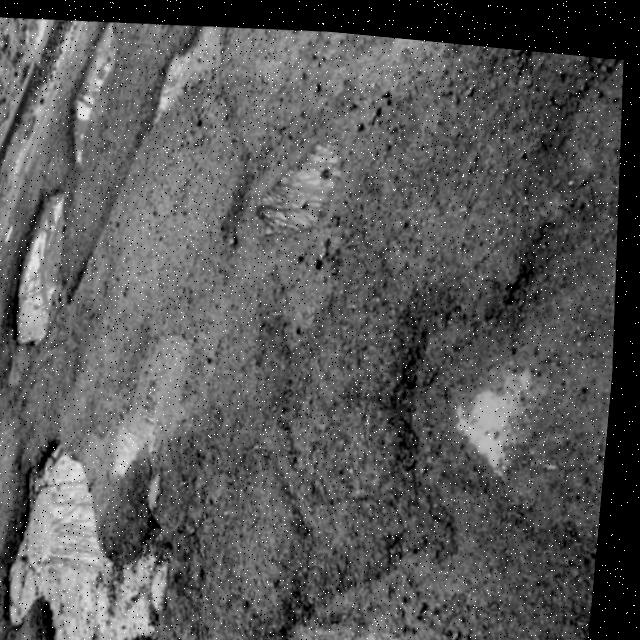Pothole: (0, 378, 226, 640), (383, 261, 590, 525), (225, 45, 393, 282), (0, 104, 133, 379), (274, 520, 465, 640), (53, 12, 177, 184), (126, 13, 259, 108), (0, 537, 12, 640)
